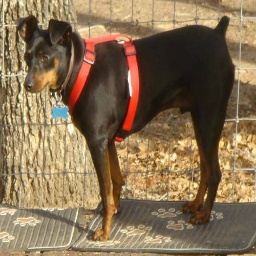dog: (11, 14, 256, 243)
